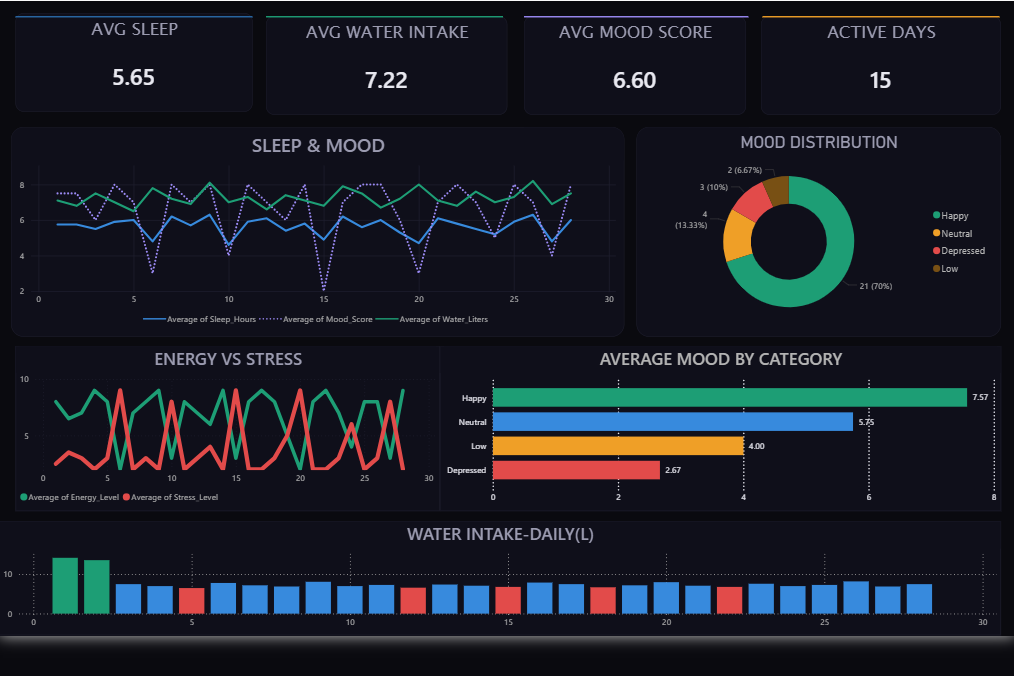

The dashboard page shown, as its layout file describes it:
{"tool":"powerbi","page":{"name":"Page 1","canvas":[1440,900],"ordinal":0},"visuals":[{"type":"cardVisual","title":"AVG SLEEP","fields":{"Data":["HealthData.Avg Sleep Hours"]},"box":[23.4,17,335.9,140.3],"z":0},{"type":"cardVisual","title":"AVG WATER INTAKE","fields":{"Data":["Avg(HealthData.Water_Liters)"]},"box":[378.4,21.3,342.3,140.3],"z":1000},{"type":"cardVisual","title":"AVG MOOD SCORE","fields":{"Data":["Avg(HealthData.Mood_Score)"]},"box":[744.1,21.3,314.6,140.3],"z":2000},{"type":"cardVisual","title":"ACTIVE DAYS","fields":{"Data":["HealthData.Exercise Day Count"]},"box":[1080,21.3,340.2,140.3],"z":3000},{"type":"shape","box":[23.4,0,335.9,44.6],"z":4000},{"type":"shape","box":[378.4,0,335.9,44.6],"z":5000},{"type":"shape","box":[744.1,0,318,44.6],"z":6000},{"type":"shape","box":[1082.1,0,335.9,44.6],"z":7000},{"type":"lineChart","title":"SLEEP & MOOD","fields":{"Category":["HealthData.Date.Variation.Date Hierarchy.Day"],"Y":["Avg(HealthData.Sleep_Hours)","Avg(HealthData.Mood_Score)","Avg(HealthData.Water_Liters)"]},"box":[17,178.6,869.5,297.6],"z":8000},{"type":"donutChart","title":"MOOD DISTRIBUTION","fields":{"Category":["HealthData.Mood_Group"],"Y":["CountNonNull(HealthData.Mood_Group)"]},"box":[903.6,178.6,516.6,297.6],"z":9000},{"type":"clusteredColumnChart","title":"WATER INTAKE-DAILY(L)","fields":{"Category":["HealthData.Date.Variation.Date Hierarchy.Day"],"Y":["Sum(HealthData.Water_Liters)"]},"box":[0,737.7,1420.2,161.6],"z":10000},{"type":"lineChart","title":"ENERGY VS STRESS","fields":{"Category":["HealthData.Date.Variation.Date Hierarchy.Day"],"Y":["Avg(HealthData.Energy_Level)","Avg(HealthData.Stress_Level)"]},"box":[23.4,489,601.7,233.9],"z":11000},{"type":"clusteredBarChart","title":"AVERAGE MOOD BY CATEGORY","fields":{"Category":["HealthData.Mood_Group"],"Y":["Avg(HealthData.Mood_Score)"]},"box":[625,489,795.1,233.9],"z":11001}]}

Visuals, with their boxes on the page's 1440x900 design canvas (x1, y1, x2, y2). These are canvas units, not pixel positions in the 1014x676 screenshot, which may show the page scaled, cropped or inside an application window:
"AVG SLEEP" cardVisual: rect(23, 17, 359, 157)
"AVG WATER INTAKE" cardVisual: rect(378, 21, 721, 162)
"AVG MOOD SCORE" cardVisual: rect(744, 21, 1059, 162)
"ACTIVE DAYS" cardVisual: rect(1080, 21, 1420, 162)
shape: rect(23, 0, 359, 45)
shape: rect(378, 0, 714, 45)
shape: rect(744, 0, 1062, 45)
shape: rect(1082, 0, 1418, 45)
"SLEEP & MOOD" lineChart: rect(17, 179, 886, 476)
"MOOD DISTRIBUTION" donutChart: rect(904, 179, 1420, 476)
"WATER INTAKE-DAILY(L)" clusteredColumnChart: rect(0, 738, 1420, 899)
"ENERGY VS STRESS" lineChart: rect(23, 489, 625, 723)
"AVERAGE MOOD BY CATEGORY" clusteredBarChart: rect(625, 489, 1420, 723)
